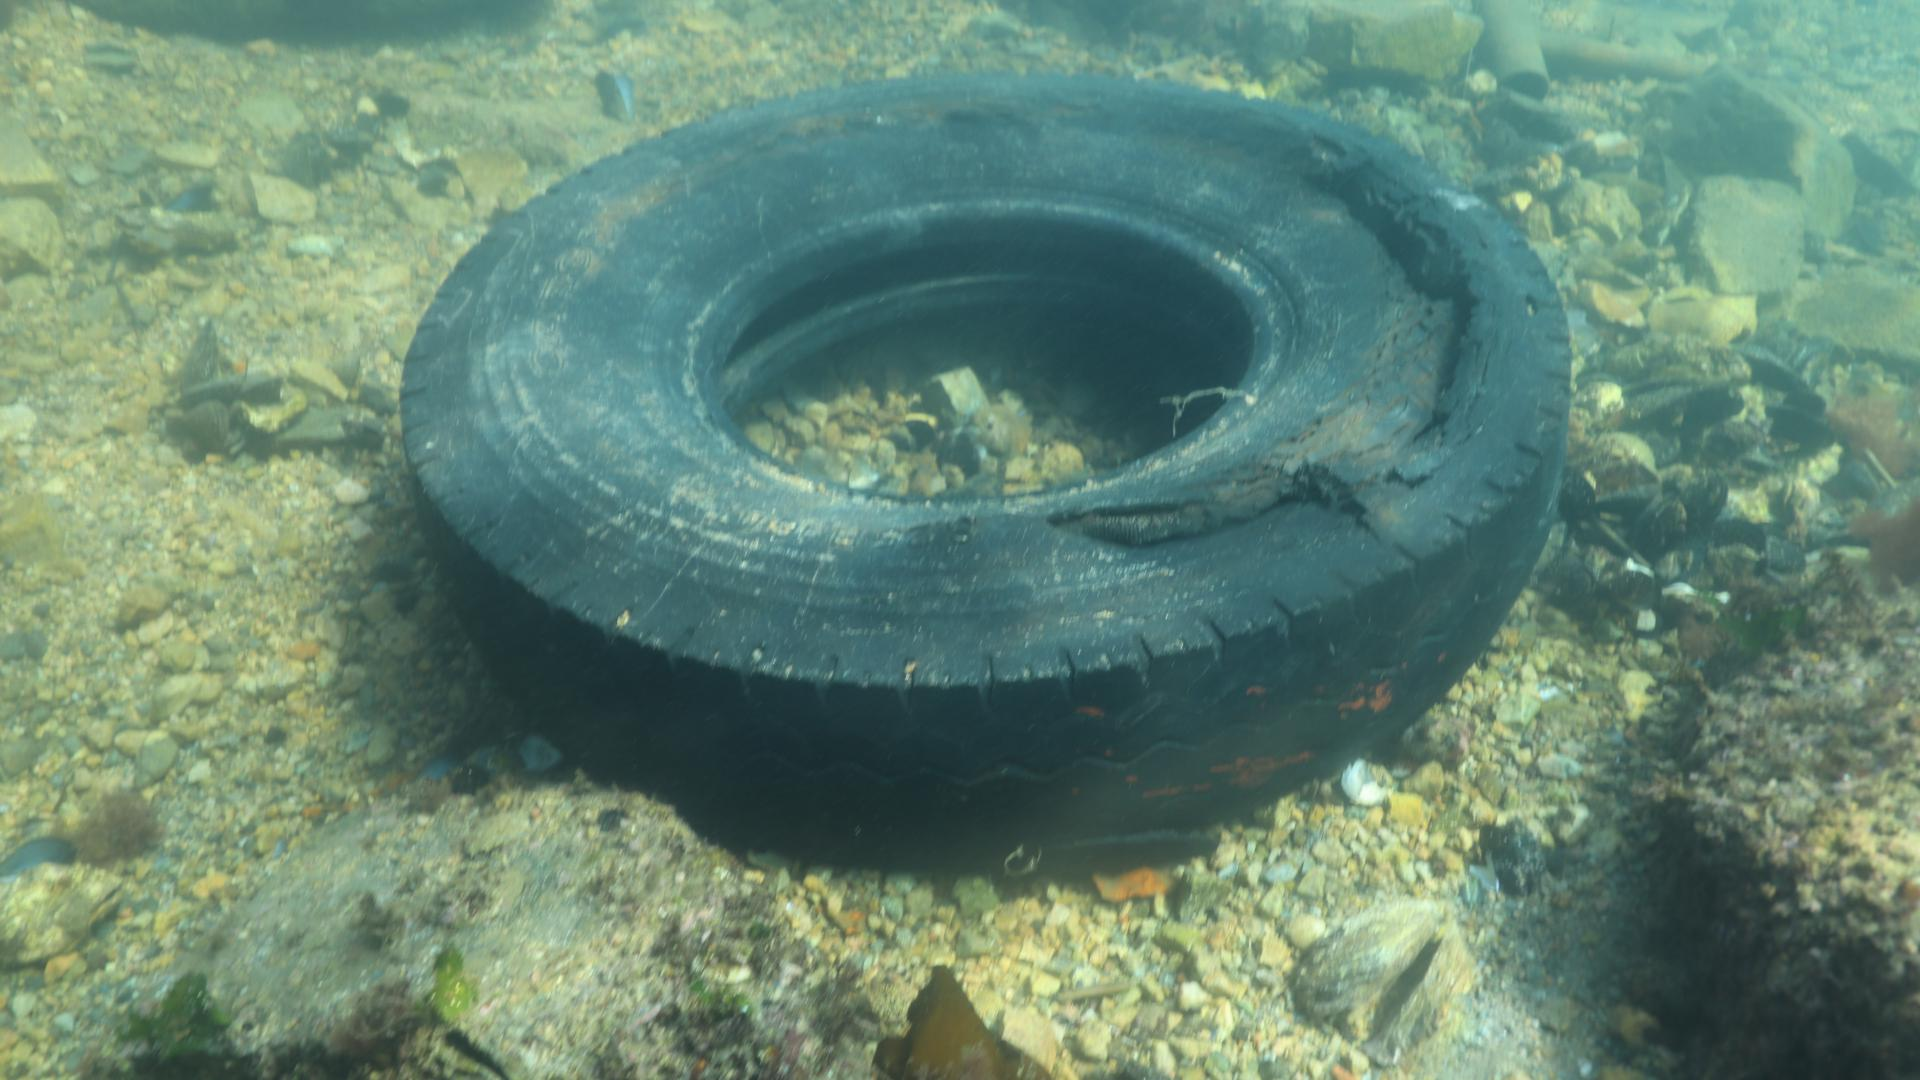tire: (396, 73, 1573, 880)
